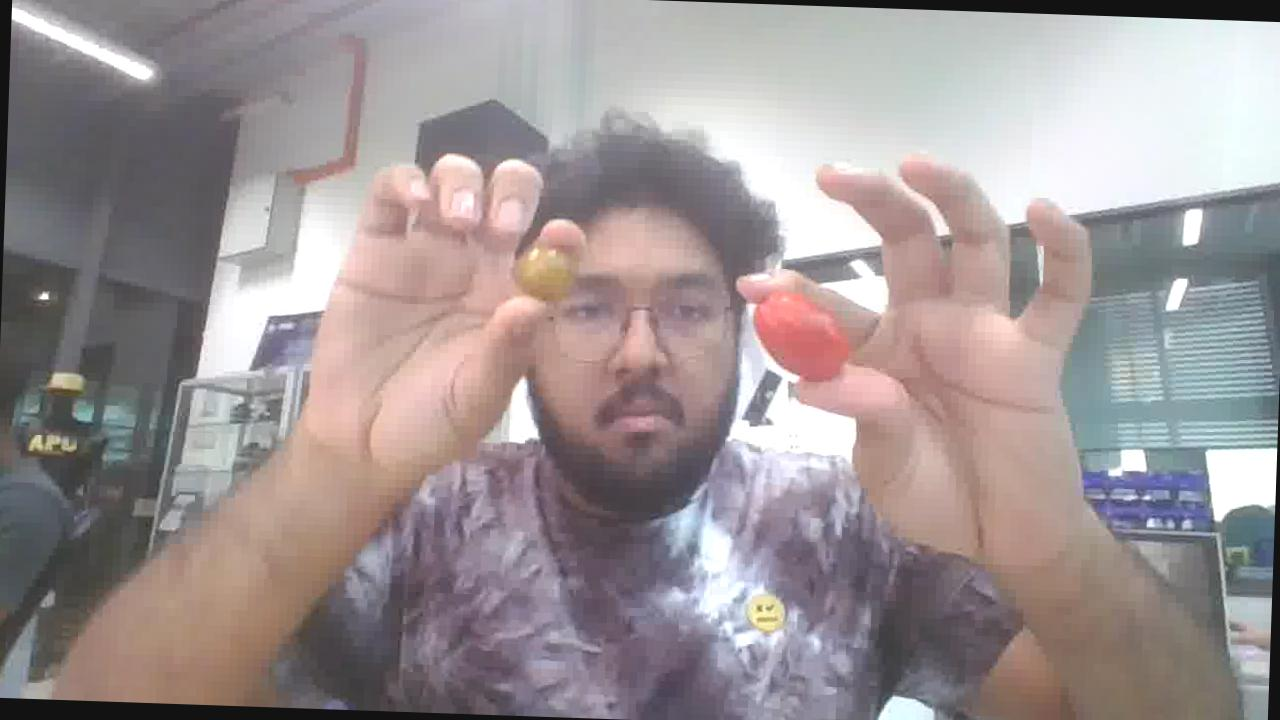red_cherry_tomato: (753, 293, 849, 381)
yellow_cherry_tomato: (514, 245, 575, 302)
